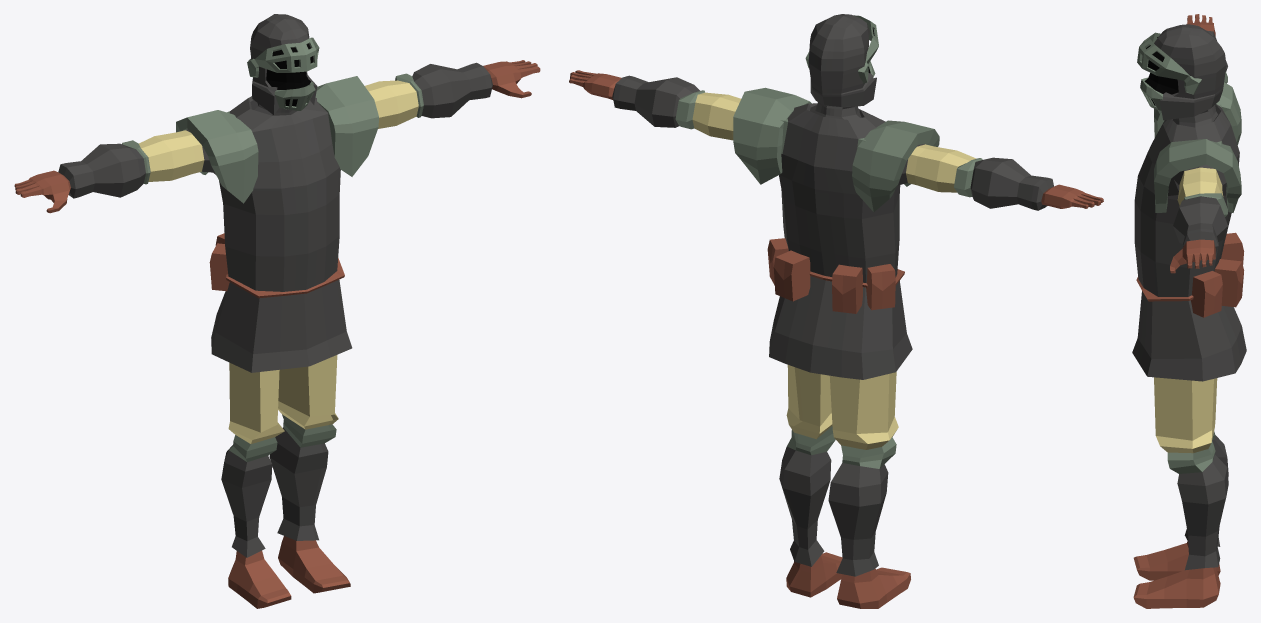
File: cavaleiro.glb
3 views of the same model, side by side, from view 1: azimuth 30°, elevation 25°; view 2: azimuth 150°, elevation 25°; view 3: azimuth 270°, elevation 25° (orthographic). The views are drawn at different scales.
Parts seen in each view (by area): view 1: cavaleiro; view 2: cavaleiro; view 3: cavaleiro.
Boxes of the visible parts, x1,y1,x2,y2 form: cavaleiro: (14, 14, 540, 608); cavaleiro: (569, 14, 1103, 608); cavaleiro: (1132, 14, 1246, 608).
Size of the model in its own units: 7.63 by 7.92 by 1.47.
